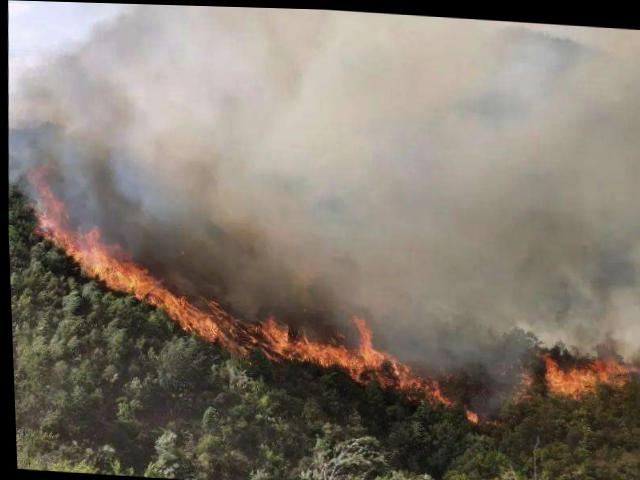fire: (20, 173, 466, 400), (530, 339, 633, 405)
